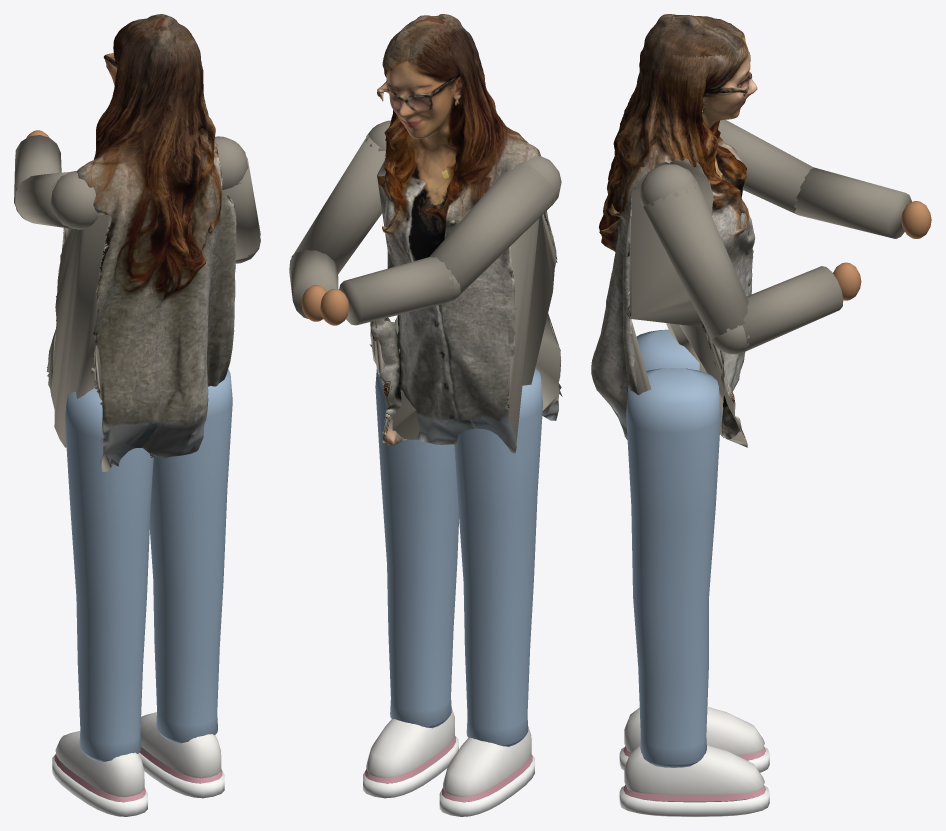
Rendered from maripa.glb.
3 views of the same model, side by side, from view 1: azimuth 30°, elevation 25°; view 2: azimuth 150°, elevation 25°; view 3: azimuth 270°, elevation 25° (orthographic). The views are drawn at different scales.
Visible parts, largest first — view 1: Busto, GambaSX, GambaDX, Testa, Braccia; view 2: Busto, GambaSX, GambaDX, Braccia, Testa; view 3: GambaDX, Braccia, Busto, Testa, GambaSX.
Boxes of the visible parts, x1,y1,x2,y2 form: Busto: (46, 128, 236, 471); GambaSX: (52, 388, 153, 816); GambaDX: (138, 369, 232, 798); Testa: (96, 14, 215, 148); Braccia: (14, 130, 260, 263); Busto: (369, 119, 562, 453); GambaSX: (439, 368, 542, 816); GambaDX: (363, 369, 458, 798); Braccia: (289, 120, 561, 325); Testa: (377, 14, 502, 147); GambaDX: (619, 368, 769, 816); Braccia: (639, 119, 931, 354); Busto: (591, 107, 755, 447); Testa: (626, 14, 757, 141); GambaSX: (619, 329, 769, 772).
Bounding box in the file's own units: 0.5496 × 1.7 × 0.6705.
7 materials, 1 textured.
